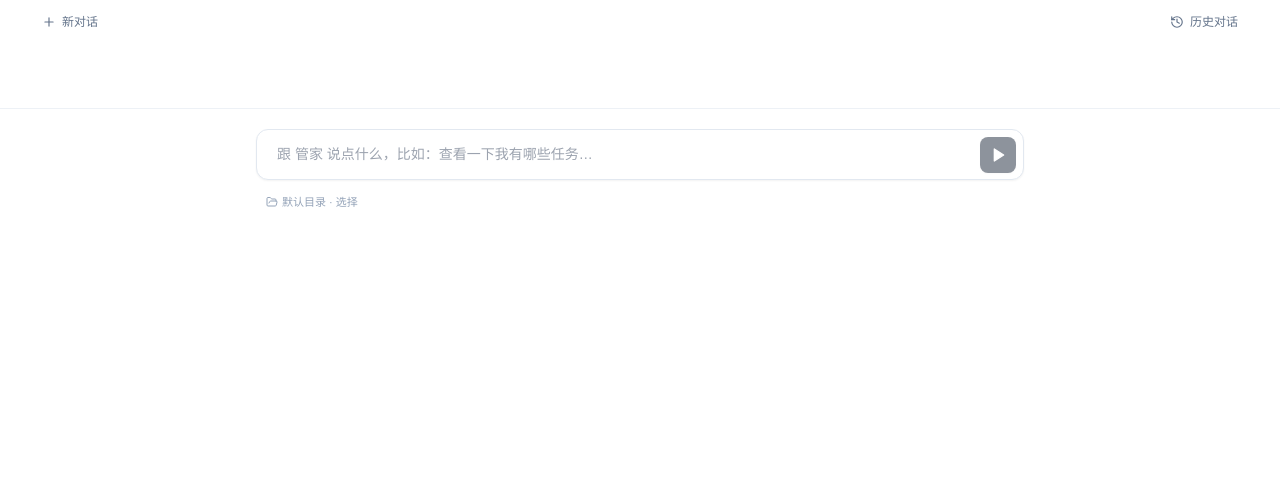
it: ChatStream conversation initialization (Story 2.2 AC-2 / AC-7) › 完成后历史消息替换本地消息时仍保留本轮 Think 内容
Type "开始处理" into the dropdown with placeholder "跟 管家 说点什么，比如：查看一下我有哪些任务…".
click(640, 154); type("开始处理")  # box [256,129,1024,180]
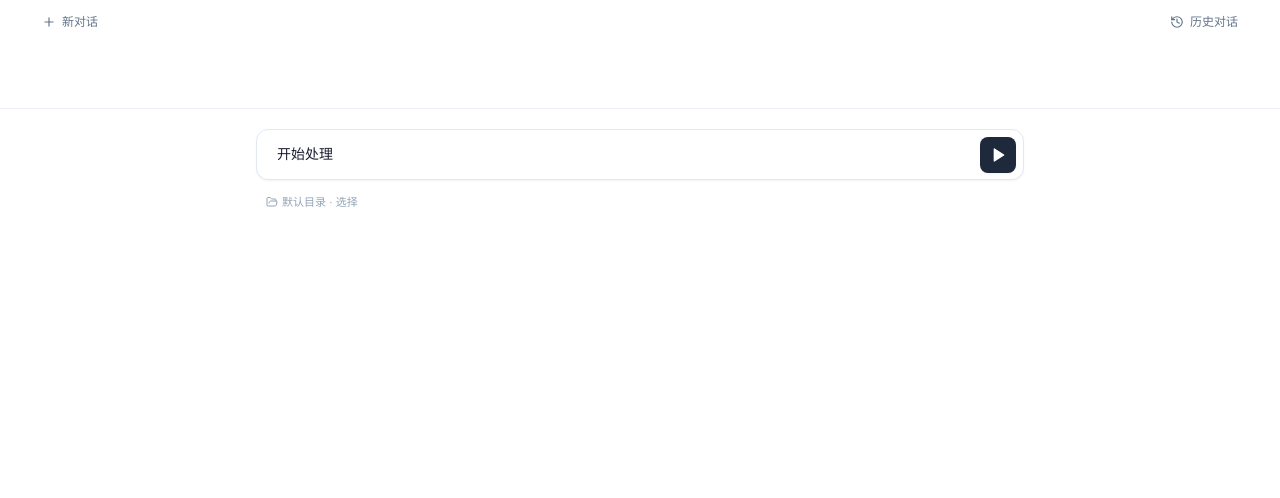
Click the button named "发送".
click(998, 154)  # box [980,136,1016,172]
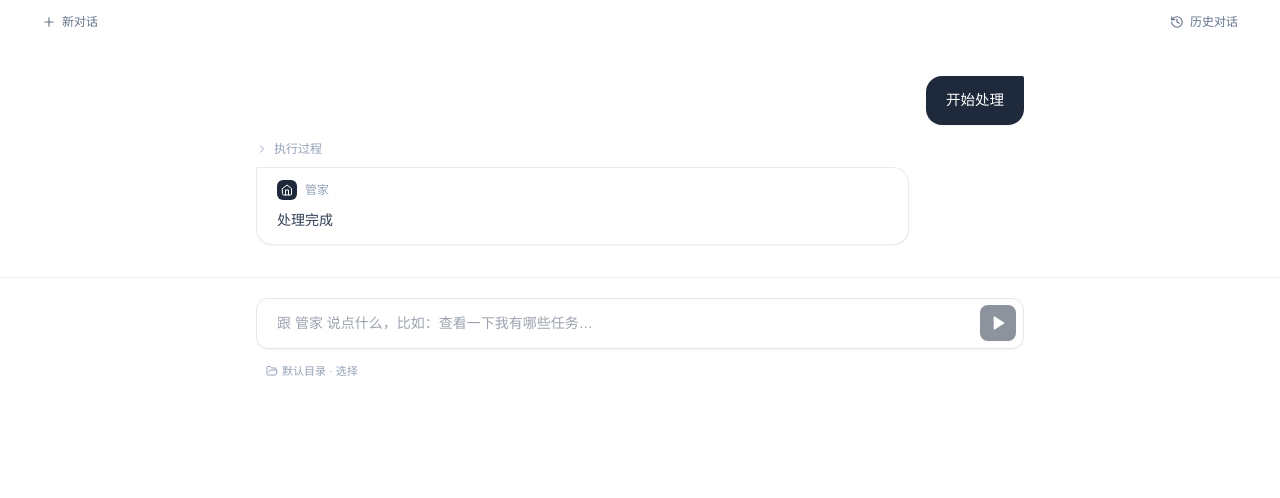
Click the button "执行过程".
click(289, 149)  # box [256,137,322,161]
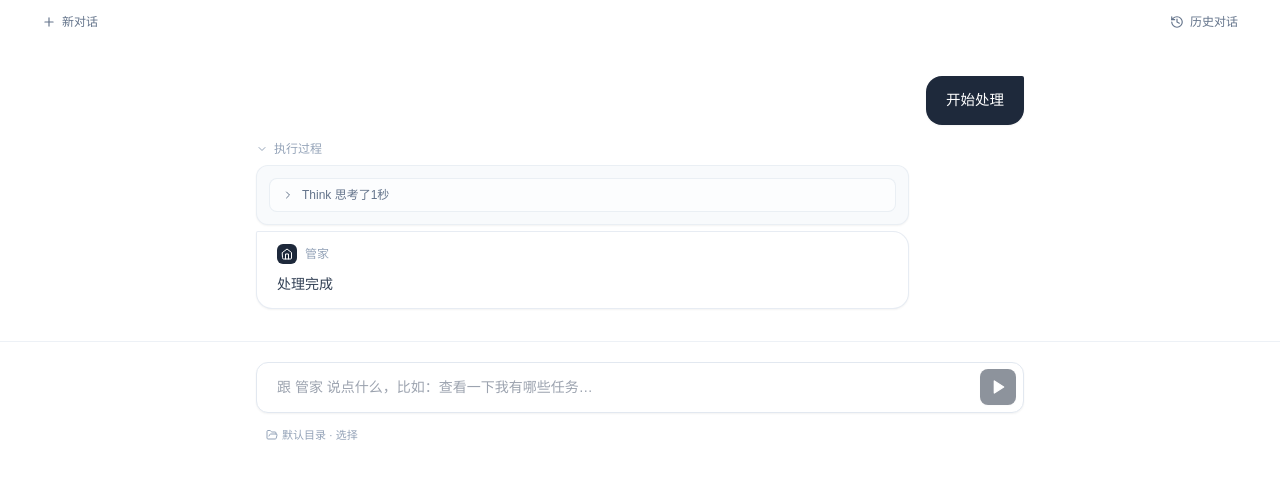
Click the button "Think 思考了1秒".
click(346, 195)  # box [270,179,895,211]
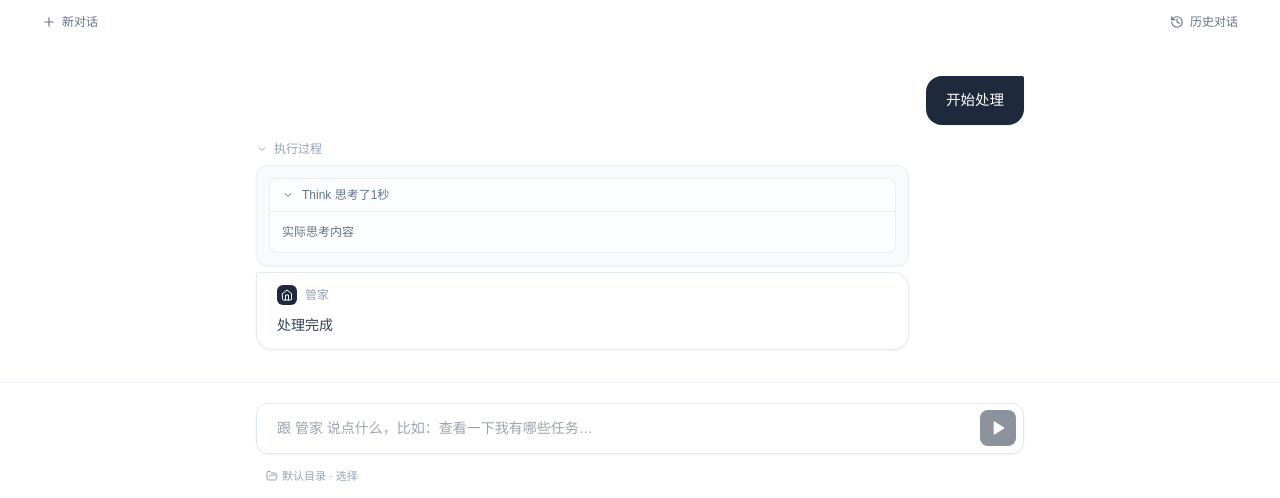
expect the text with test id "thinking-content" reads "实际思考内容": met, box [282,225,354,239]
